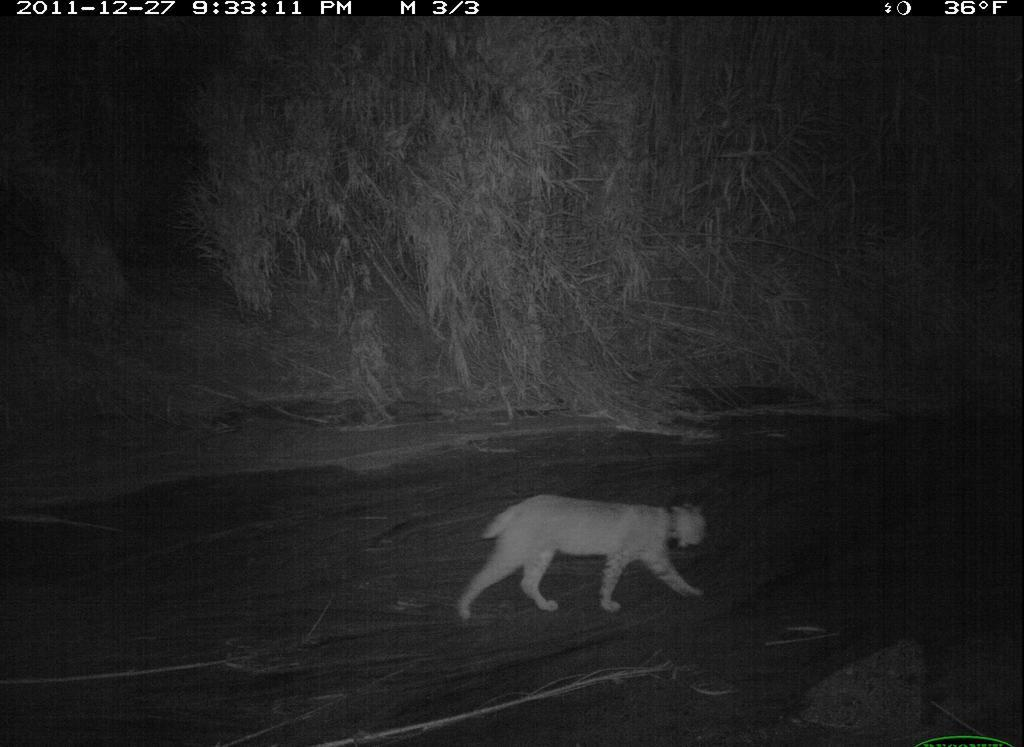bobcat: (446, 489, 730, 634)
